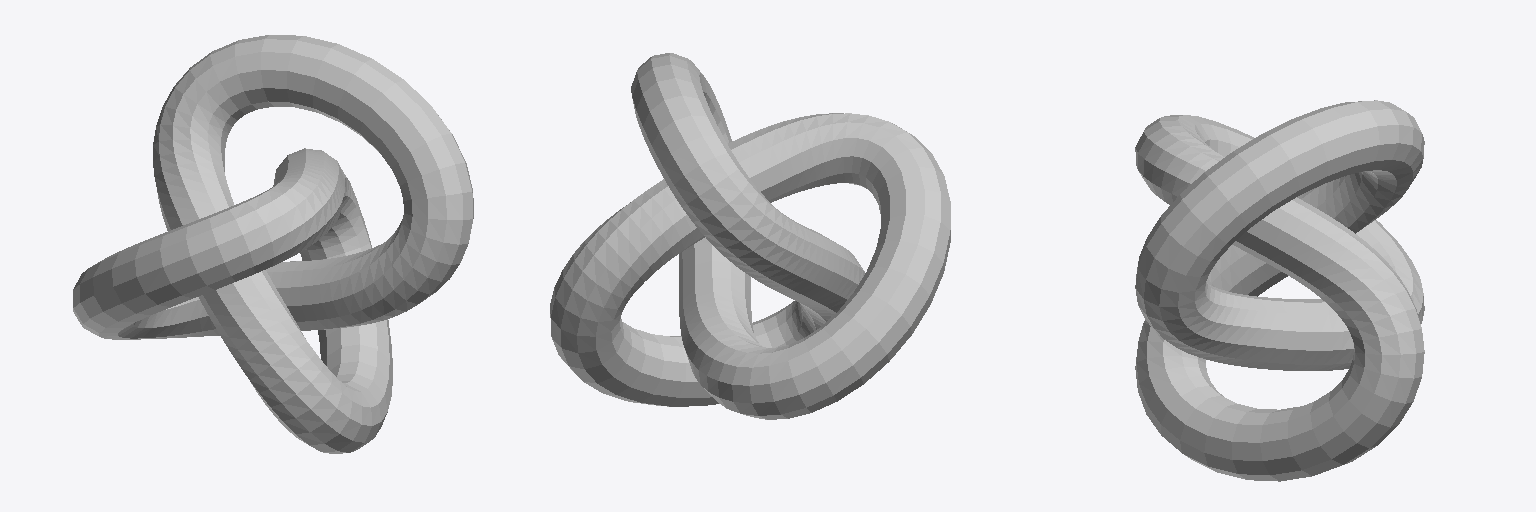
The model's file is torus_knot.obj.
The picture shows the model from 3 angles: view 1: azimuth 30°, elevation 25°; view 2: azimuth 150°, elevation 25°; view 3: azimuth 270°, elevation 25°; orthographic projection.
Visible parts, largest first — view 1: Torus_Knot; view 2: Torus_Knot; view 3: Torus_Knot.
Boxes of the visible parts, box(x1,y1,x2,y2) form: Torus_Knot: box(73, 35, 473, 453); Torus_Knot: box(550, 53, 950, 419); Torus_Knot: box(1135, 100, 1424, 481).
Bounding box in the file's own units: 119 × 126 × 91.87.